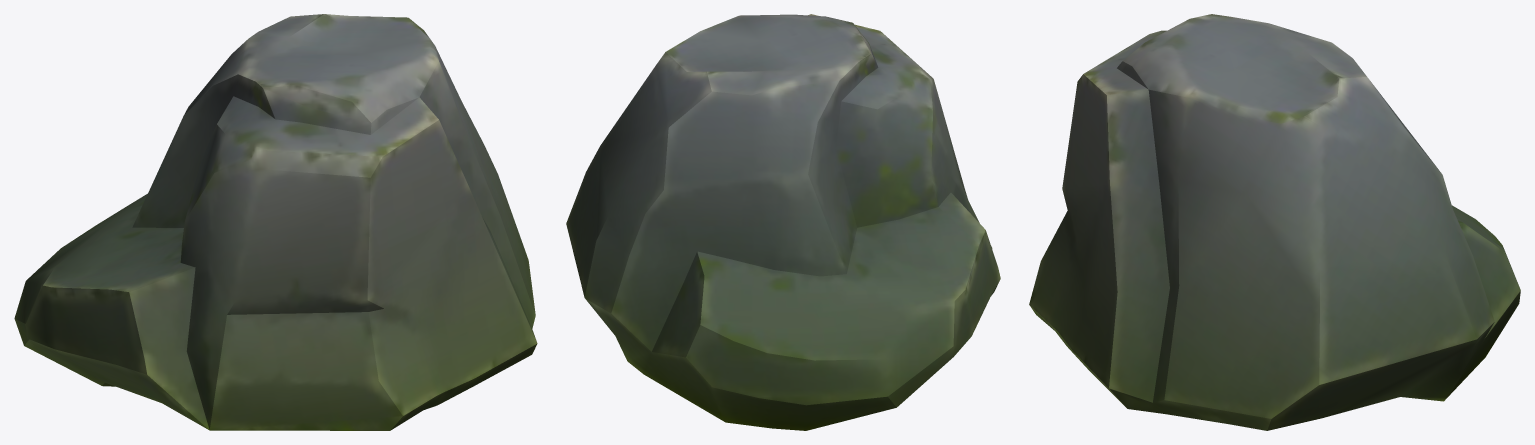
Rendered from Rock_Medium_1.glb.
3 renders of one model, left to right at view 1: azimuth 30°, elevation 25°; view 2: azimuth 150°, elevation 25°; view 3: azimuth 270°, elevation 25°, orthographic. The views are drawn at different scales.
Visible parts, largest first — view 1: Rock_Medium_1; view 2: Rock_Medium_1; view 3: Rock_Medium_1.
Part boxes in pixels (x1,y1,x2,y2): Rock_Medium_1: [14, 14, 537, 430]; Rock_Medium_1: [566, 14, 1000, 430]; Rock_Medium_1: [1029, 14, 1520, 430].
Size of the model in its own units: 3.23 by 2.26 by 2.99.
Materials: 1 (1 with a texture image).
